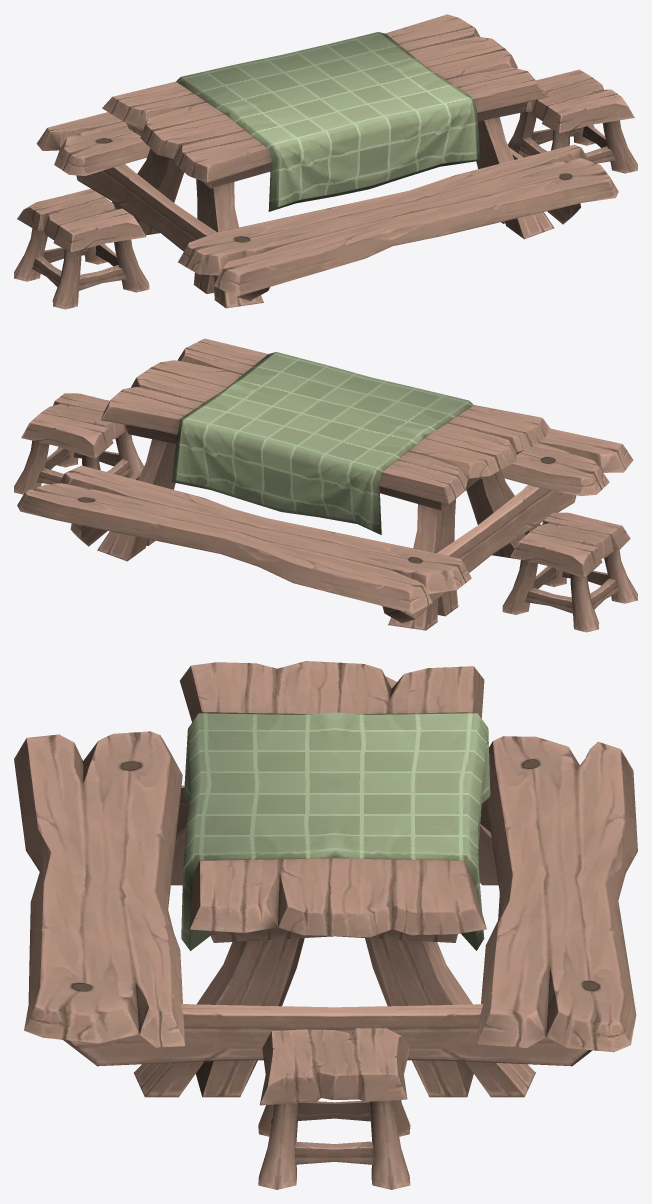
The picture shows the model from 3 angles, top to bottom: view 1: azimuth 30°, elevation 25°; view 2: azimuth 150°, elevation 25°; view 3: azimuth 270°, elevation 25°; orthographic projection. The views are drawn at different scales.
Bounding box in the file's own units: 3.73 × 0.8222 × 2.33.
Materials: 1 (1 with a texture image).
